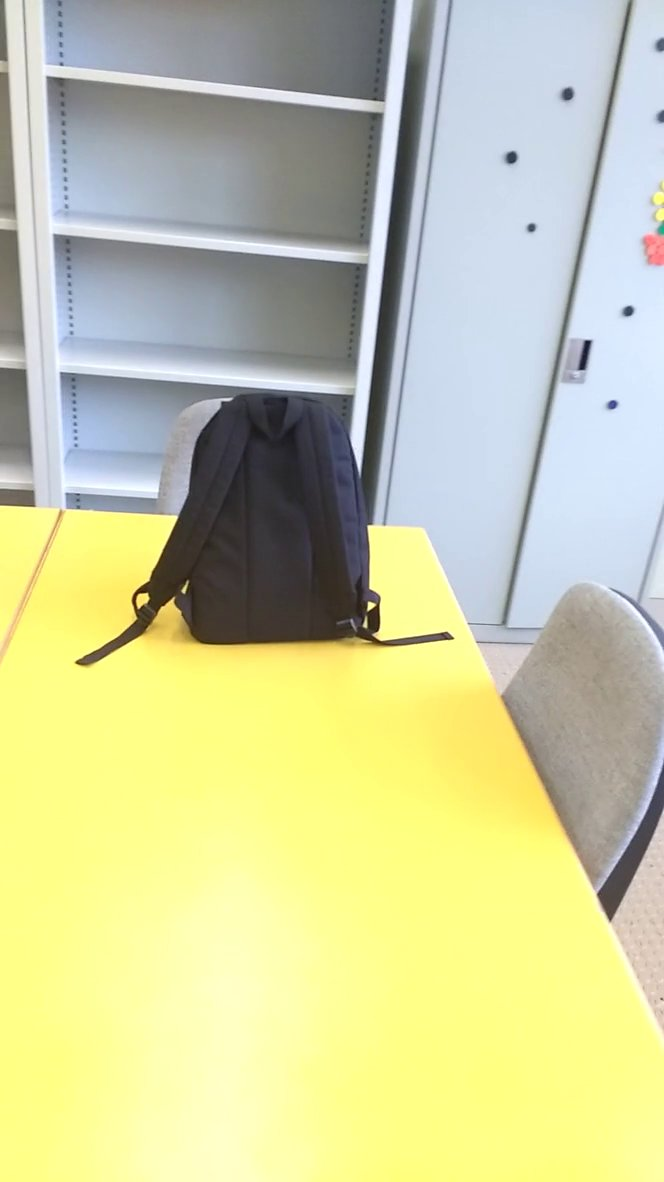bag: (77, 383, 465, 683)
chair: (490, 569, 664, 971)
